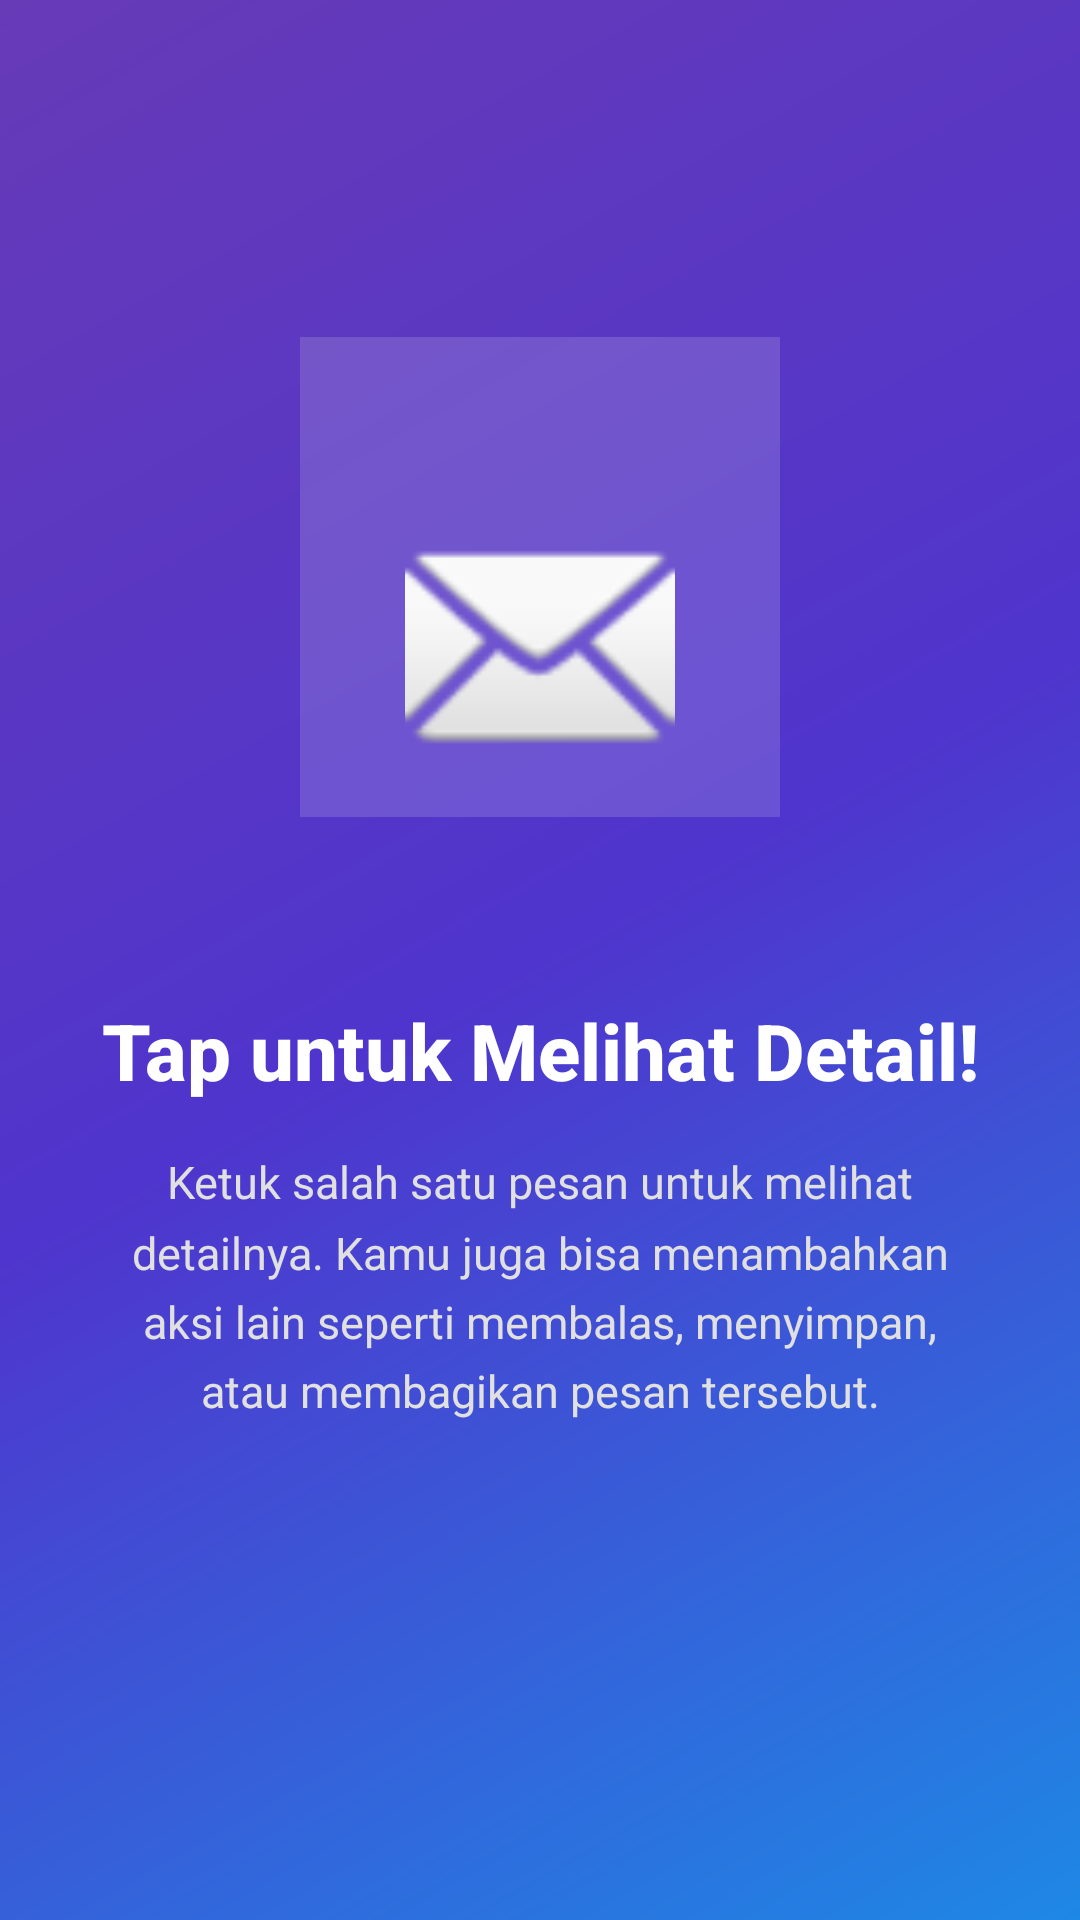

Where icons sit on this 1080×1920 app screen, as (x1, y1, x2, y2):
Icon Detail Pesan: (405, 552, 675, 742)
